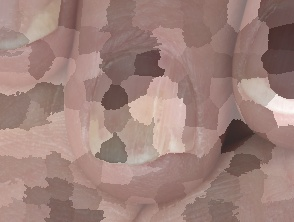Nail_psoriasis: (70, 61, 217, 199)
